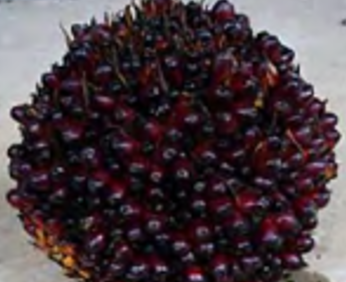PalmFruit: (8, 7, 344, 279)
